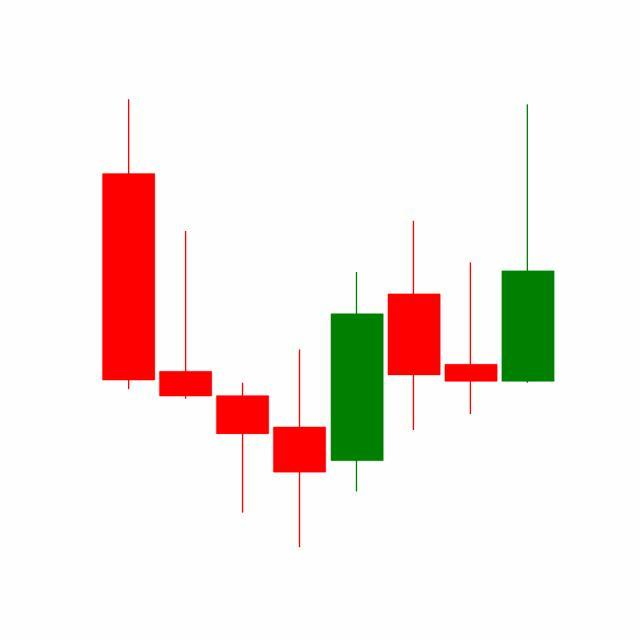Hikkake Pattern: (270, 100, 555, 548)
